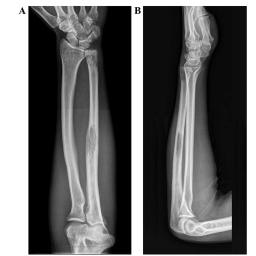cancer: (85, 124, 100, 201), (177, 131, 183, 160)
